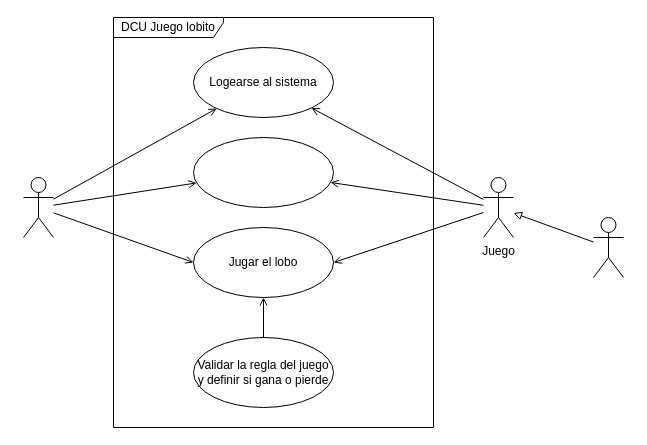
Some shapes in this 647 by 445 pixel diagram are drawn without their labels. Each missing label, with the box of its shape:
Jugador: (22, 176, 54, 238)
Mostrar menú del juego: (192, 136, 334, 208)
Palanca: (592, 216, 624, 278)
